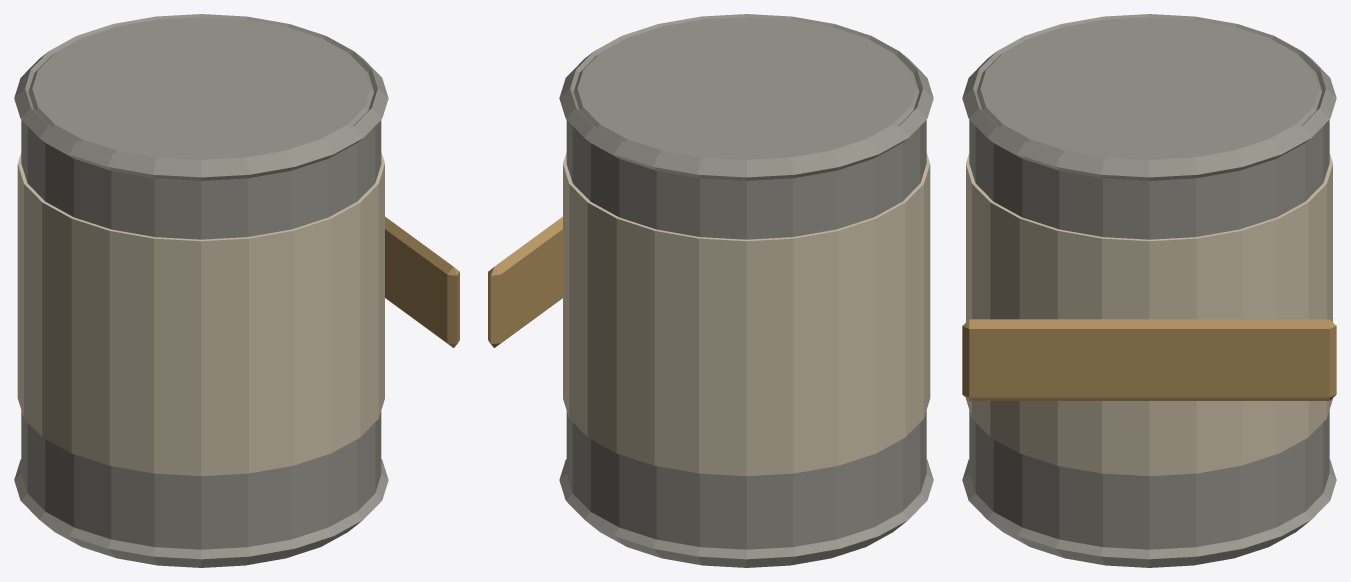
Rendered from item_canned_food.glb.
3 renders of one model, left to right at view 1: azimuth 30°, elevation 25°; view 2: azimuth 150°, elevation 25°; view 3: azimuth 270°, elevation 25°, orthographic.
Visible parts, largest first — view 1: item_canned_food; view 2: item_canned_food; view 3: item_canned_food.
Part boxes in pixels (<box>): item_canned_food: <box>14,14,459,567</box>; item_canned_food: <box>488,14,933,567</box>; item_canned_food: <box>962,14,1336,567</box>.
Bounding box in the file's own units: 0.106 × 0.125 × 0.104.
